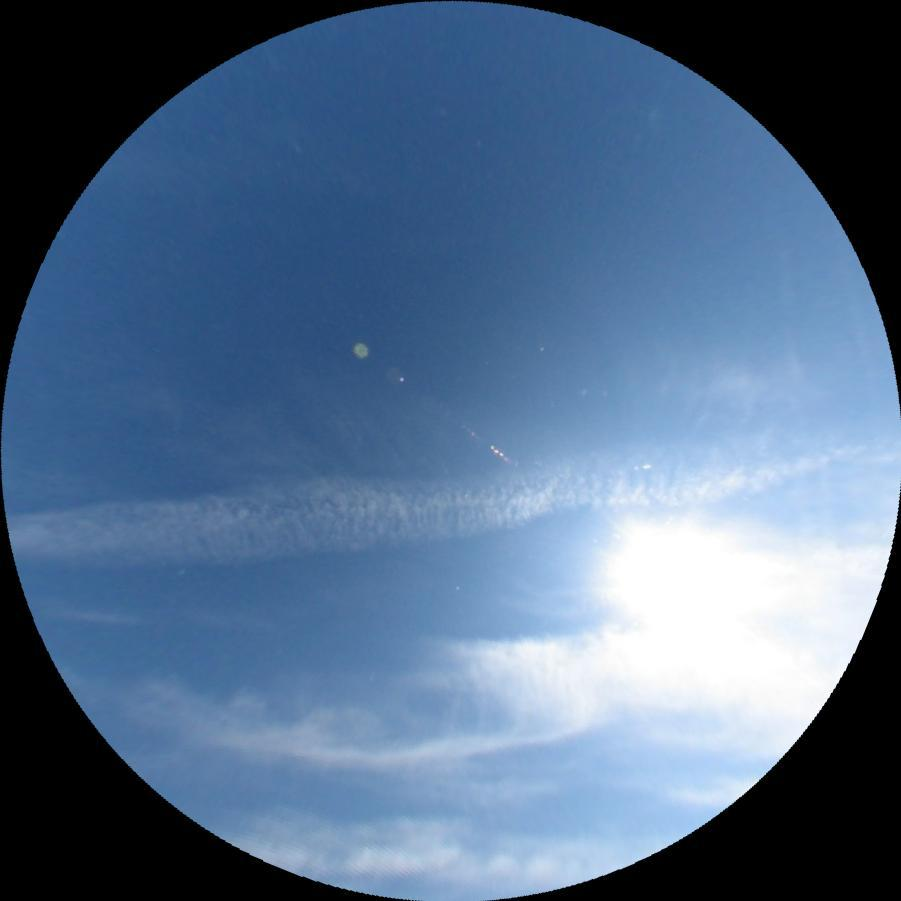contrail veryold: (5, 403, 901, 593)
sun: (610, 526, 745, 636)
